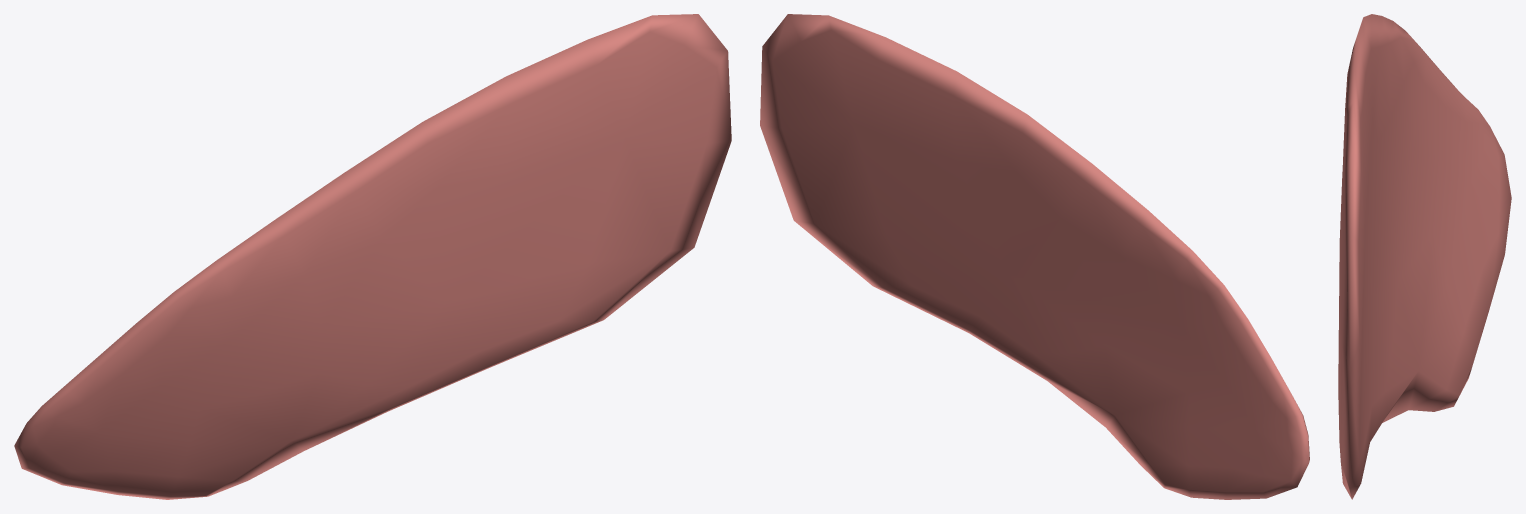
3 views of the same model, side by side, from view 1: azimuth 30°, elevation 25°; view 2: azimuth 150°, elevation 25°; view 3: azimuth 270°, elevation 25° (orthographic). The views are drawn at different scales.
Visible parts, largest first — view 1: ZA_a6ed57061cf3f181; view 2: ZA_a6ed57061cf3f181; view 3: ZA_a6ed57061cf3f181.
Boxes of the visible parts, box(x1,y1,x2,y2) form: ZA_a6ed57061cf3f181: box(14, 14, 731, 499); ZA_a6ed57061cf3f181: box(760, 14, 1309, 499); ZA_a6ed57061cf3f181: box(1338, 14, 1511, 499).
Size of the model in its own units: 0.0208 by 0.0121 by 0.00315.
